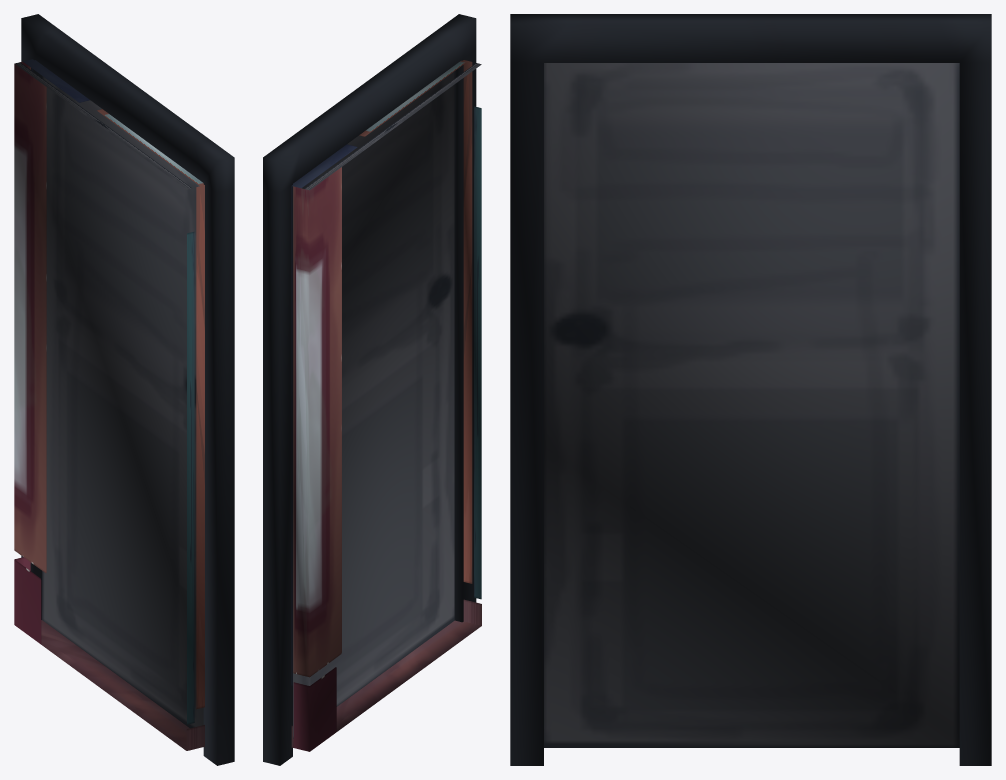
File: Porta.fbx
The picture shows the model from 3 angles, left to right: view 1: azimuth 30°, elevation 25°; view 2: azimuth 150°, elevation 25°; view 3: azimuth 270°, elevation 25°; orthographic projection. The views are drawn at different scales.
Visible parts, largest first — view 1: Porta; view 2: Porta; view 3: Porta.
Part boxes in pixels (left/top/right/bottom): Porta: left=14, top=14, right=234, bottom=765; Porta: left=263, top=14, right=481, bottom=765; Porta: left=510, top=14, right=991, bottom=765.
Size of the model in its own units: 21.43 by 206 by 350.
